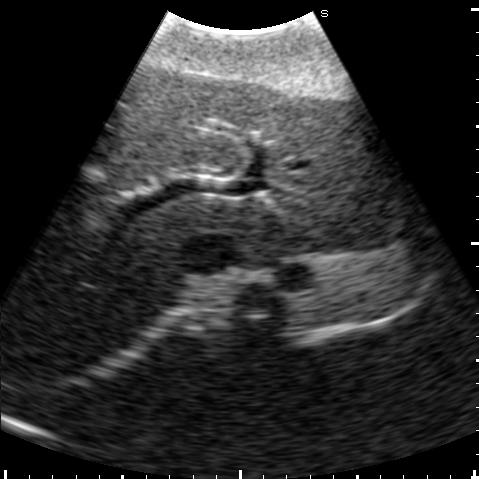IVC: (177, 232, 238, 276)
S1: (218, 202, 285, 248)
S2: (267, 185, 414, 251)
S3: (255, 95, 397, 191)
S4: (77, 68, 277, 193)
Tumor: (82, 168, 103, 183)
